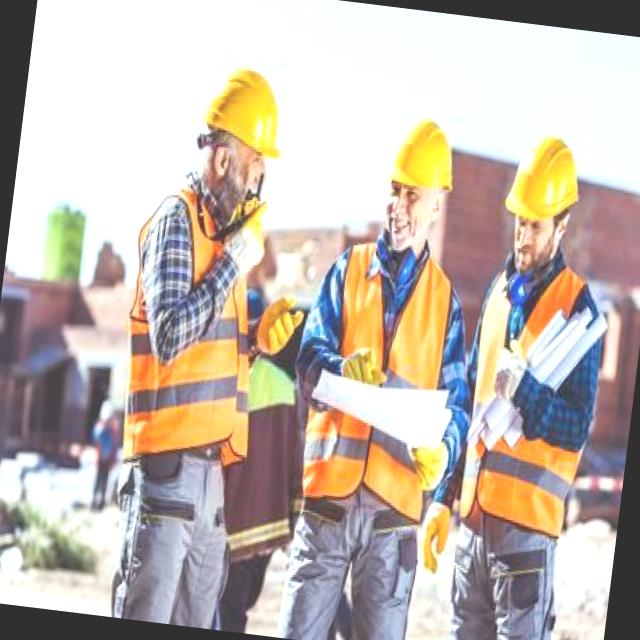helmet: (186, 60, 292, 167), (497, 132, 591, 232), (382, 118, 467, 206)
vest: (98, 183, 280, 489), (296, 232, 465, 534), (448, 266, 612, 546)
